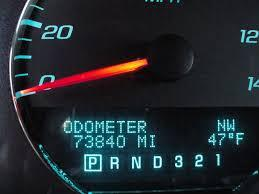odometer: (51, 105, 252, 176)
